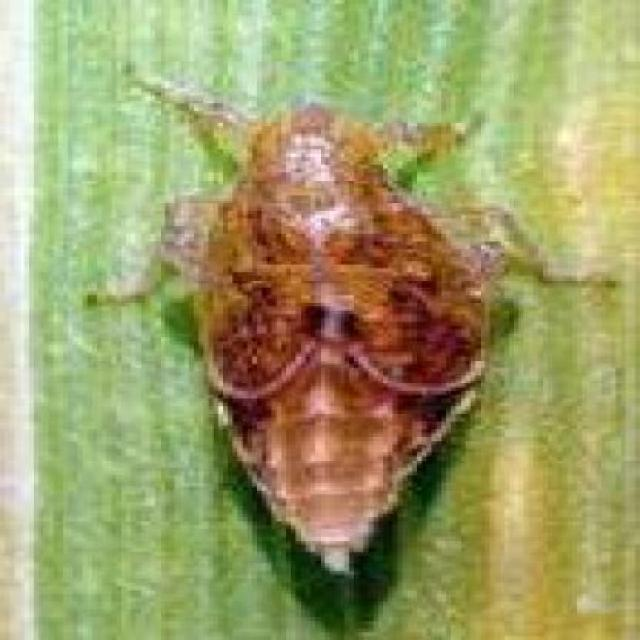brown-planthopper: (187, 88, 493, 590)
